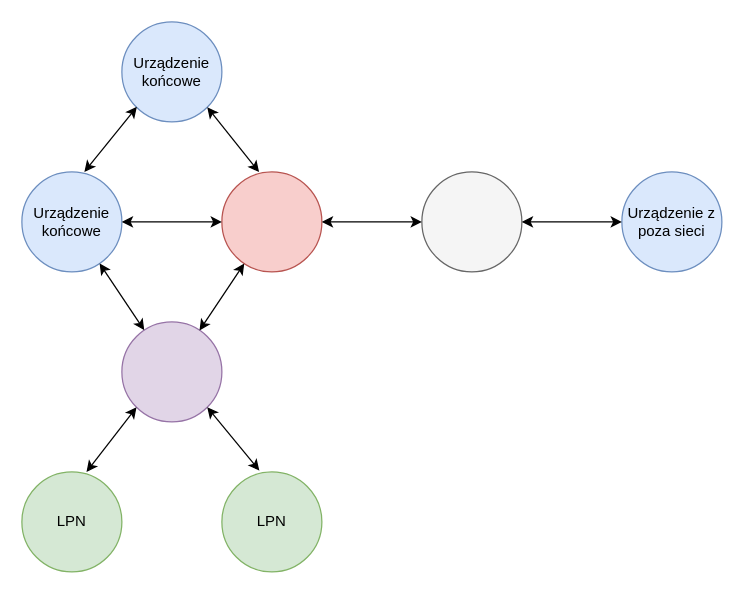
The diagram is 744 pixels wide and 594 high, and some of its shapes have lost their labels. Each missing label, with the centre of its shape:
"FN" goes at (x=171, y=371).
"PN" goes at (x=471, y=221).
"RN" goes at (x=271, y=221).
